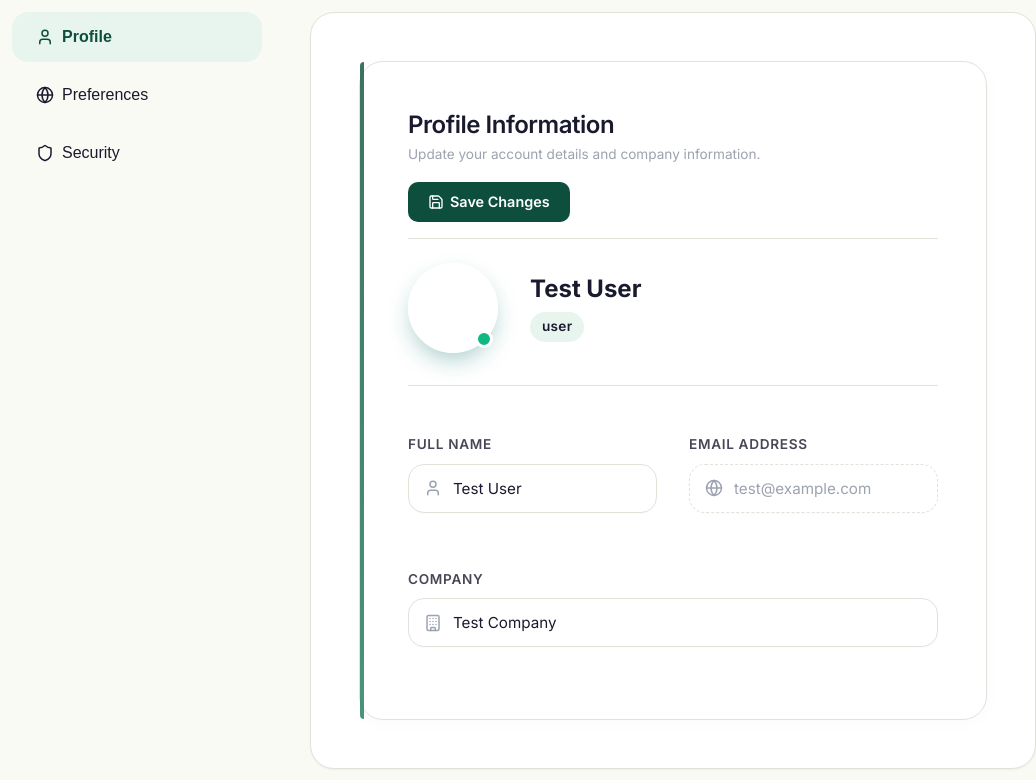
Scenario: SettingsClient Component › switches to preferences tab
Click the button "Preferences": (137,95) x1=12 y1=70 x2=262 y2=120
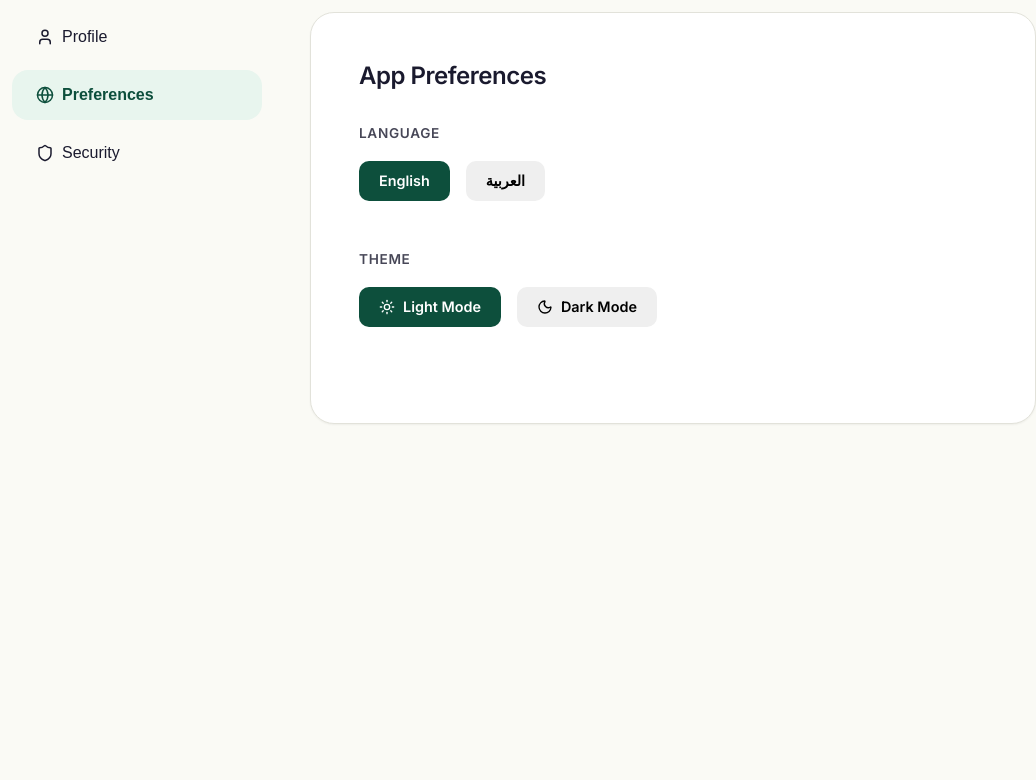
Expected: the heading "App Preferences" is shown, x1=359 y1=61 x2=546 y2=90
Expected: the text "Language" is shown, x1=359 y1=125 x2=440 y2=141
Expected: the text "Theme" is shown, x1=359 y1=251 x2=410 y2=267
